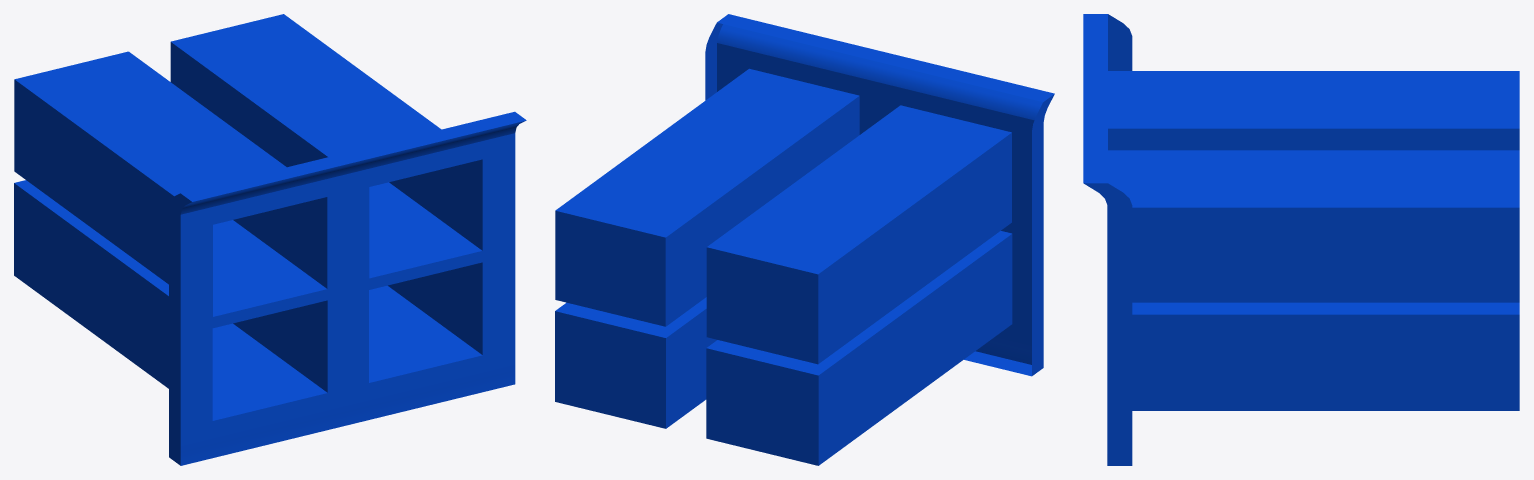
The model's file is MorgueWallFreezer.fbx.
The picture shows the model from 3 angles, left to right: view 1: azimuth 30°, elevation 25°; view 2: azimuth 150°, elevation 25°; view 3: azimuth 270°, elevation 25°; orthographic projection. The views are drawn at different scales.
Visible parts, largest first — view 1: FreezerWall, FreezerWall.001; view 2: FreezerWall, FreezerWall.001; view 3: FreezerWall, FreezerWall.001.
Part boxes in pixels (bbox=[...]): FreezerWall: bbox=[14, 14, 515, 446]; FreezerWall.001: bbox=[169, 111, 526, 465]; FreezerWall: bbox=[555, 43, 1043, 465]; FreezerWall.001: bbox=[705, 14, 1054, 376]; FreezerWall: bbox=[1107, 36, 1519, 445]; FreezerWall.001: bbox=[1083, 14, 1132, 465].
Size of the model in its own units: 273 by 350 by 382.
